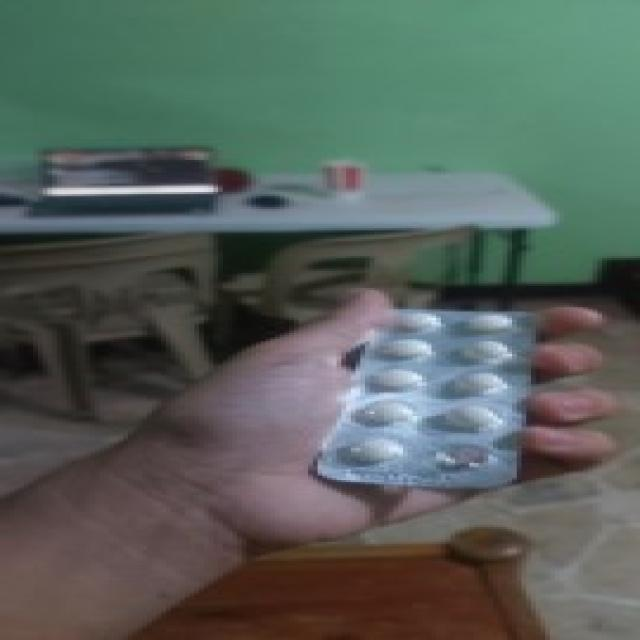Cacat: (308, 302, 524, 490)
Kemasan: (420, 442, 507, 472)
